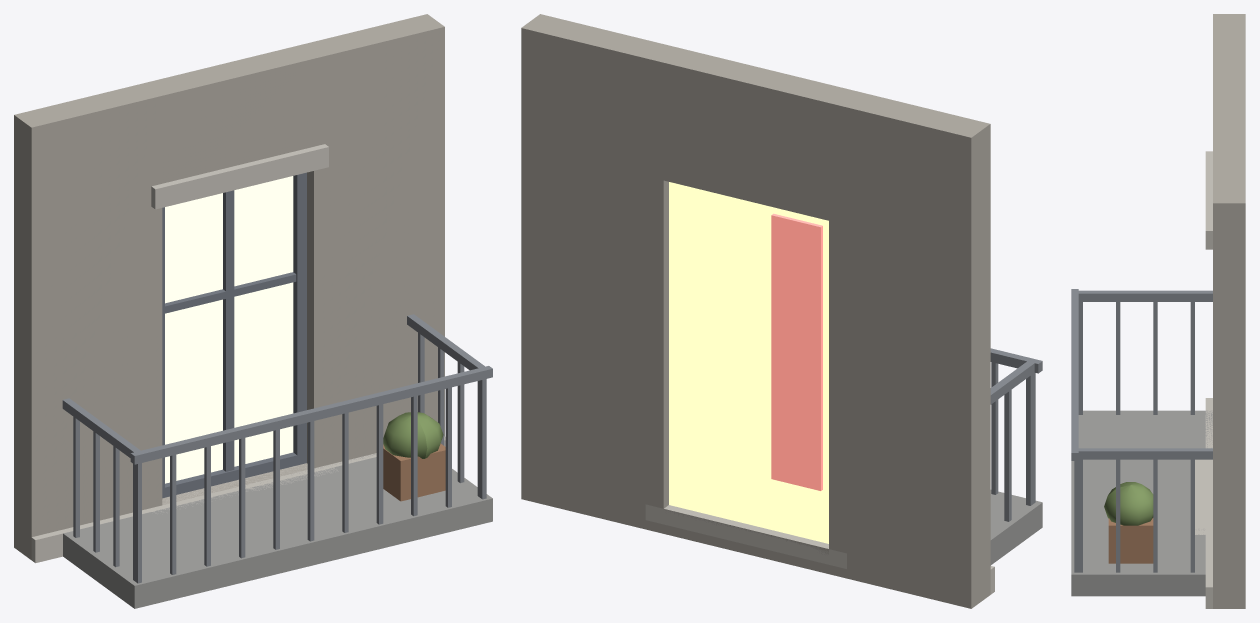
File: wall_balcony.glb
The picture shows the model from 3 angles, left to right: view 1: azimuth 30°, elevation 25°; view 2: azimuth 150°, elevation 25°; view 3: azimuth 270°, elevation 25°; orthographic projection. The views are drawn at different scales.
Parts seen in each view (by area): view 1: wall_balcony; view 2: wall_balcony; view 3: wall_balcony.
Boxes of the visible parts, x1,y1,x2,y2 form: wall_balcony: (14, 14, 492, 608); wall_balcony: (521, 14, 1042, 608); wall_balcony: (1071, 14, 1245, 608).
Size of the model in its own units: 3 by 3 by 1.17.
